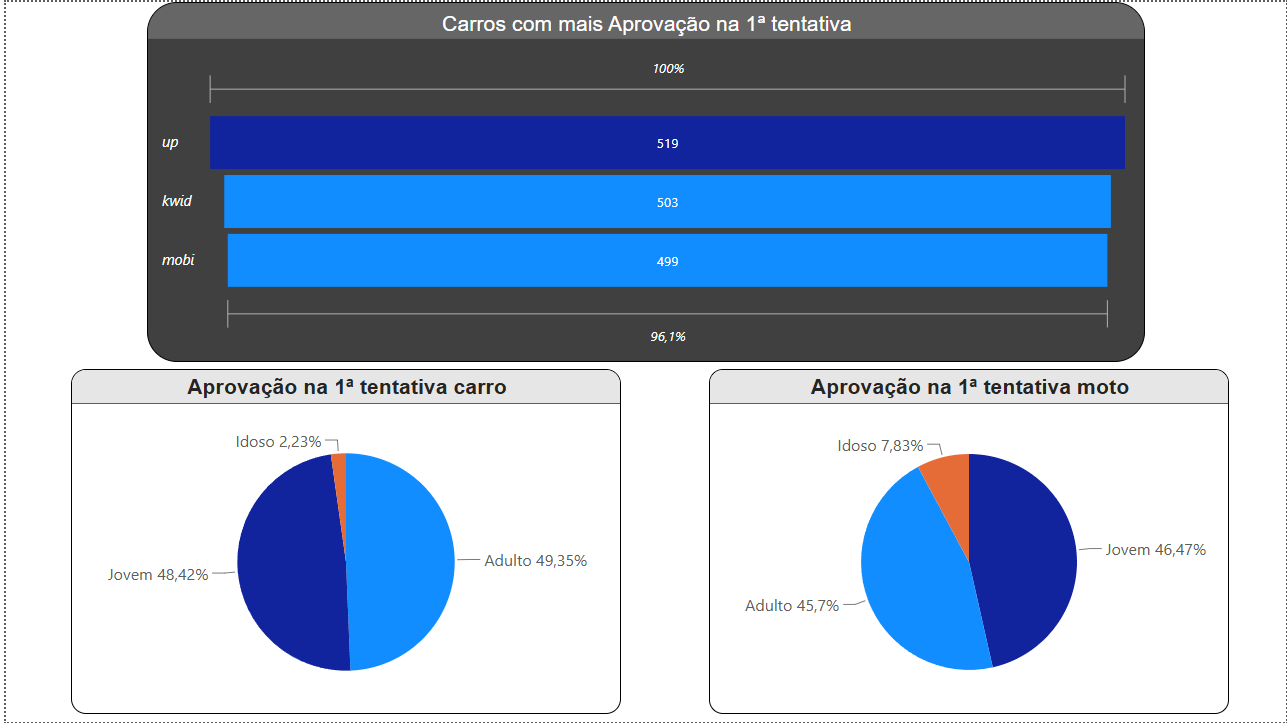

The page's visual inventory and layout, read from the dashboard file:
{"tool":"powerbi","page":{"name":"Desempenho","canvas":[1280,720],"ordinal":2},"visuals":[{"type":"funnel","title":"Carros com mais Aprovação na 1ª tentativa","fields":{"Y":["CountNonNull(tabela_matriculas.passou_primeira_b)"],"Category":["tabela_veiculos.modelo"]},"box":[141,0,998,360],"z":0},{"type":"pieChart","title":"Aprovação na 1ª tentativa moto","fields":{"Category":["tabela_matriculas.Faixa_etaria"],"Y":["CountNonNull(tabela_matriculas.passou_primeira_a)"]},"box":[703,367,520,345],"z":1000},{"type":"pieChart","title":"Aprovação na 1ª tentativa carro","fields":{"Category":["tabela_matriculas.Faixa_etaria"],"Y":["CountNonNull(tabela_matriculas.passou_primeira_b)"]},"box":[65,367,550,345],"z":2000}]}

Visuals, with their boxes in screenshot pixels (x1, y1, x2, y2), scaled from the page's 1280x720 canvas onto the 1287x723 screenshot:
"Carros com mais Aprovação na 1ª tentativa" funnel: bbox=(142, 0, 1145, 362)
"Aprovação na 1ª tentativa moto" pieChart: bbox=(707, 369, 1230, 715)
"Aprovação na 1ª tentativa carro" pieChart: bbox=(65, 369, 618, 715)
